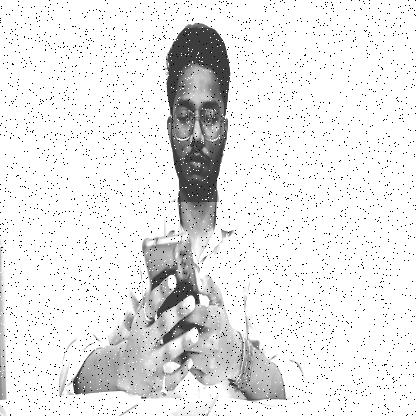Normal: (162, 28, 234, 202)
